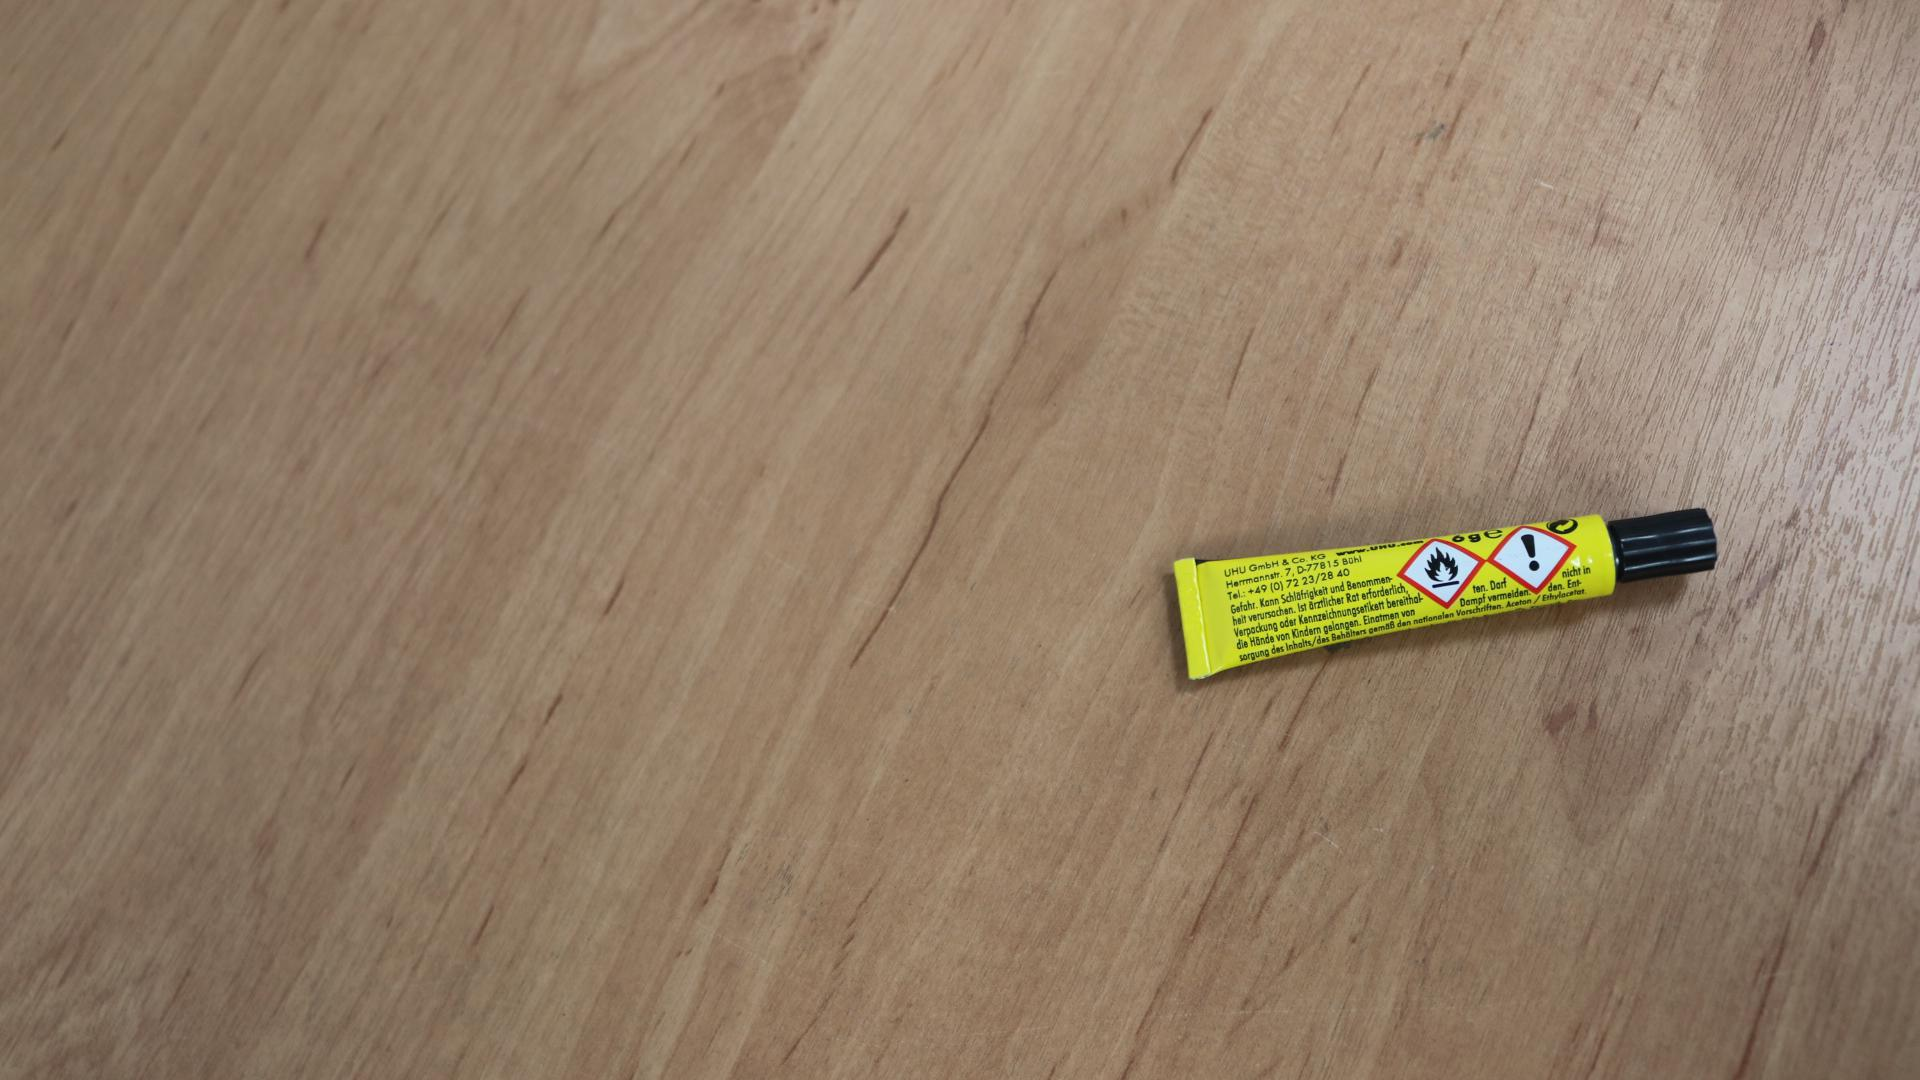Head: (1657, 536, 1673, 551)
Tail: (1183, 612, 1198, 626)
Tube: (1173, 507, 1720, 680)
